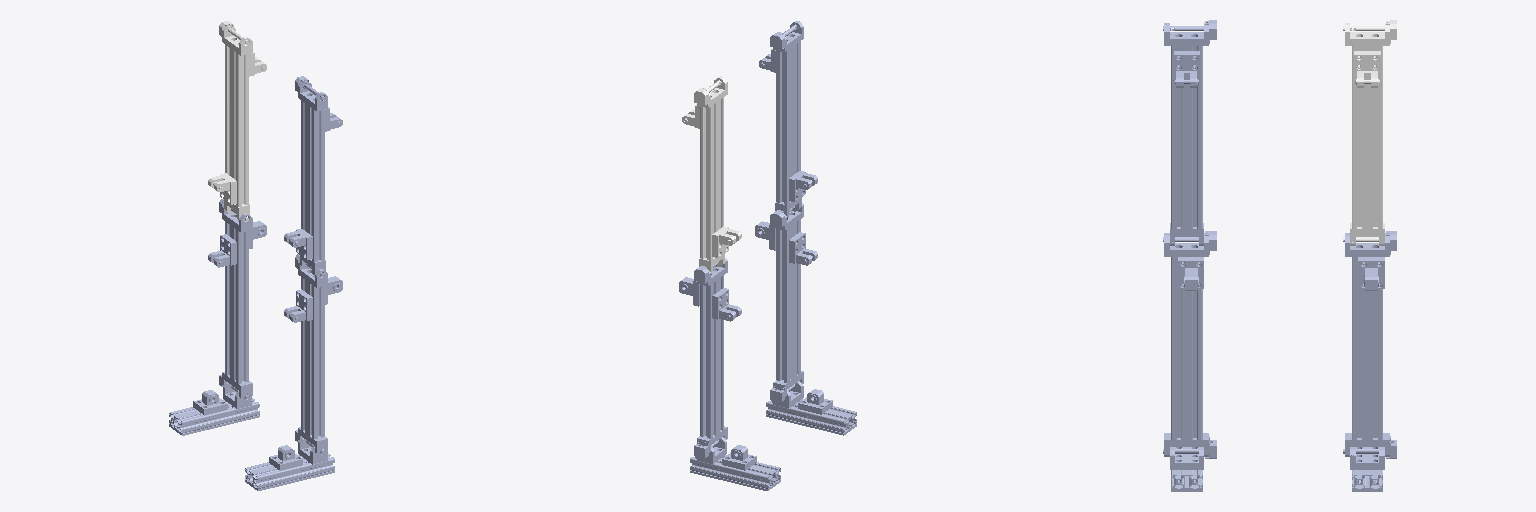
URDF robot description (leg_chuan_final):
<?xml version="1.0" encoding="utf-8"?>
<!-- This URDF was automatically created by SolidWorks to URDF Exporter! Originally created by [author] ([email redacted]) 
     Commit Version: 1.5.1-0-g916b5db  Build Version: 1.5.7152.31018
     For more information, please see http://wiki.ros.org/sw_urdf_exporter -->
<robot
  name="leg_chuan_final">
  <link
    name="base_link">
    <inertial>
      <origin
        xyz="-0.0014321 0.00041851 0.040306"
        rpy="0 0 0" />
      <mass
        value="2.4018" />
      <inertia
        ixx="0.009591"
        ixy="1.9337E-07"
        ixz="-1.2072E-07"
        iyy="0.0070769"
        iyz="-2.7325E-07"
        izz="0.015485" />
    </inertial>
    <visual>
      <origin
        xyz="0 0 0"
        rpy="0 0 0" />
      <geometry>
        <mesh
          filename="package://leg_chuan_final/meshes/base_link.STL" />
      </geometry>
      <material
        name="">
        <color
          rgba="0.79216 0.81961 0.93333 1" />
      </material>
    </visual>
    <collision>
      <origin
        xyz="0 0 0"
        rpy="0 0 0" />
      <geometry>
        <mesh
          filename="package://leg_chuan_final/meshes/base_link.STL" />
      </geometry>
    </collision>
  </link>
  <link
    name="left_link1">
    <inertial>
      <origin
        xyz="0.21548 -0.0030993 0.0013257"
        rpy="0 0 0" />
      <mass
        value="0.43137" />
      <inertia
        ixx="0.00020436"
        ixy="-9.8E-06"
        ixz="1.5473E-07"
        iyy="0.0027266"
        iyz="5.4625E-08"
        izz="0.0026126" />
    </inertial>
    <visual>
      <origin
        xyz="0 0 0"
        rpy="0 0 0" />
      <geometry>
        <mesh
          filename="package://leg_chuan_final/meshes/left_link1.STL" />
      </geometry>
      <material
        name="">
        <color
          rgba="0.79216 0.81961 0.93333 1" />
      </material>
    </visual>
    <collision>
      <origin
        xyz="0 0 0"
        rpy="0 0 0" />
      <geometry>
        <mesh
          filename="package://leg_chuan_final/meshes/left_link1.STL" />
      </geometry>
    </collision>
  </link>
  <joint
    name="left_joint1"
    type="revolute">
    <origin
      xyz="-0.0436 -0.17124 -0.06"
      rpy="1.5708 1.5708 0" />
    <parent
      link="base_link" />
    <child
      link="left_link1" />
    <axis
      xyz="0 0 1" />
    <limit
      lower="0"
      upper="1.571"
      effort="100"
      velocity="5" />
    <dynamics
      damping="0.1"
      friction="0" />
  </joint>
  <link
    name="left_link2">
    <inertial>
      <origin
        xyz="0.17796189333379 0.00157862107610368 -0.0479042300307976"
        rpy="0 0 0" />
      <mass
        value="0.455413997264765" />
      <inertia
        ixx="0.000232825591707952"
        ixy="4.91487669826109E-06"
        ixz="4.24541899488186E-18"
        iyy="0.00274374190170977"
        iyz="1.41521080153611E-17"
        izz="0.0026249658638958" />
    </inertial>
    <visual>
      <origin
        xyz="0 0 0"
        rpy="0 0 0" />
      <geometry>
        <mesh
          filename="package://leg_chuan_final/meshes/left_link2.STL" />
      </geometry>
      <material
        name="">
        <color
          rgba="0.792156862745098 0.819607843137255 0.933333333333333 1" />
      </material>
    </visual>
    <collision>
      <origin
        xyz="0 0 0"
        rpy="0 0 0" />
      <geometry>
        <mesh
          filename="package://leg_chuan_final/meshes/left_link2.STL" />
      </geometry>
    </collision>
  </link>
  <joint
    name="left_joint2"
    type="revolute">
    <origin
      xyz="0.438 -0.0031004 0.047592"
      rpy="0 0 0" />
    <parent
      link="left_link1" />
    <child
      link="left_link2" />
    <axis
      xyz="0 0 1" />
    <limit
      lower="0"
      upper="1.571"
      effort="150"
      velocity="5" />
    <dynamics
      damping="0.1"
      friction="0" />
  </joint>
  <link
    name="left_link3">
    <inertial>
      <origin
        xyz="0.036675 -0.049331 -0.045802"
        rpy="0 0 0" />
      <mass
        value="0.29119" />
      <inertia
        ixx="0.00068435"
        ixy="-6.0358E-08"
        ixz="-1.3663E-07"
        iyy="0.00011606"
        iyz="9.6683E-08"
        izz="0.00061049" />
    </inertial>
    <visual>
      <origin
        xyz="0 0 0"
        rpy="0 0 0" />
      <geometry>
        <mesh
          filename="package://leg_chuan_final/meshes/left_link3.STL" />
      </geometry>
      <material
        name="">
        <color
          rgba="0.79216 0.81961 0.93333 1" />
      </material>
    </visual>
    <collision>
      <origin
        xyz="0 0 0"
        rpy="0 0 0" />
      <geometry>
        <mesh
          filename="package://leg_chuan_final/meshes/left_link3.STL" />
      </geometry>
    </collision>
  </link>
  <joint
    name="left_joint3"
    type="revolute">
    <origin
      xyz="0.44 0 0"
      rpy="0 0 0" />
    <parent
      link="left_link2" />
    <child
      link="left_link3" />
    <axis
      xyz="0 0 1" />
    <limit
      lower="0"
      upper="1.571"
      effort="200"
      velocity="5" />
    <dynamics
      damping="0.1"
      friction="0" />
  </joint>
  <link
    name="right_link1">
    <inertial>
      <origin
        xyz="0 0 0"
        rpy="0 0 0" />
      <mass
        value="0" />
      <inertia
        ixx="0"
        ixy="0"
        ixz="0"
        iyy="0"
        iyz="0"
        izz="0" />
    </inertial>
    <visual>
      <origin
        xyz="0 0 0"
        rpy="0 0 0" />
      <geometry>
        <mesh
          filename="package://leg_chuan_final/meshes/right_link1.STL" />
      </geometry>
      <material
        name="">
        <color
          rgba="1 1 1 1" />
      </material>
    </visual>
    <collision>
      <origin
        xyz="0 0 0"
        rpy="0 0 0" />
      <geometry>
        <mesh
          filename="package://leg_chuan_final/meshes/right_link1.STL" />
      </geometry>
    </collision>
  </link>
  <joint
    name="right_joint1"
    type="revolute">
    <origin
      xyz="-0.0436 0.16876 -0.06"
      rpy="1.5708 1.5708 0" />
    <parent
      link="base_link" />
    <child
      link="right_link1" />
    <axis
      xyz="0 0 1" />
    <limit
      lower="0"
      upper="1.571"
      effort="100"
      velocity="5" />
    <dynamics
      damping="0.1"
      friction="0" />
  </joint>
  <link
    name="right_link2">
    <inertial>
      <origin
        xyz="0.17796 0.0015786 -0.047904"
        rpy="0 0 0" />
      <mass
        value="0.45541" />
      <inertia
        ixx="0.00023283"
        ixy="4.9149E-06"
        ixz="4.1449E-18"
        iyy="0.0027437"
        iyz="1.4101E-17"
        izz="0.002625" />
    </inertial>
    <visual>
      <origin
        xyz="0 0 0"
        rpy="0 0 0" />
      <geometry>
        <mesh
          filename="package://leg_chuan_final/meshes/right_link2.STL" />
      </geometry>
      <material
        name="">
        <color
          rgba="0.79216 0.81961 0.93333 1" />
      </material>
    </visual>
    <collision>
      <origin
        xyz="0 0 0"
        rpy="0 0 0" />
      <geometry>
        <mesh
          filename="package://leg_chuan_final/meshes/right_link2.STL" />
      </geometry>
    </collision>
  </link>
  <joint
    name="right_joint2"
    type="revolute">
    <origin
      xyz="0.438 -0.0031004 0.047592"
      rpy="0 0 0" />
    <parent
      link="right_link1" />
    <child
      link="right_link2" />
    <axis
      xyz="0 0 1" />
    <limit
      lower="0"
      upper="1.571"
      effort="150"
      velocity="5" />
    <dynamics
      damping="0.1"
      friction="0" />
  </joint>
  <link
    name="right_link3">
    <inertial>
      <origin
        xyz="0.036675 -0.049331 -0.045802"
        rpy="0 0 0" />
      <mass
        value="0.29119" />
      <inertia
        ixx="0.00068435"
        ixy="-6.0358E-08"
        ixz="-1.3663E-07"
        iyy="0.00011606"
        iyz="9.6683E-08"
        izz="0.00061049" />
    </inertial>
    <visual>
      <origin
        xyz="0 0 0"
        rpy="0 0 0" />
      <geometry>
        <mesh
          filename="package://leg_chuan_final/meshes/right_link3.STL" />
      </geometry>
      <material
        name="">
        <color
          rgba="0.79216 0.81961 0.93333 1" />
      </material>
    </visual>
    <collision>
      <origin
        xyz="0 0 0"
        rpy="0 0 0" />
      <geometry>
        <mesh
          filename="package://leg_chuan_final/meshes/right_link3.STL" />
      </geometry>
    </collision>
  </link>
  <joint
    name="right_joint3"
    type="revolute">
    <origin
      xyz="0.44 0 0"
      rpy="0 0 0" />
    <parent
      link="right_link2" />
    <child
      link="right_link3" />
    <axis
      xyz="0 0 1" />
    <limit
      lower="0"
      upper="1.571"
      effort="200"
      velocity="5" />
    <dynamics
      damping="0.1"
      friction="0" />
  </joint>
</robot>

--- Render facts (derived) ---
The picture shows the robot from 3 angles, left to right: view 1: azimuth 30°, elevation 25°; view 2: azimuth 150°, elevation 25°; view 3: azimuth 270°, elevation 25°; orthographic projection.
Model leg_chuan_final with 7 links and 6 joints (6 revolute), rooted at base_link, posed every joint at zero.
Links seen in each view (by area): view 1: right_link2, right_link1, left_link1, left_link2, left_link3, right_link3; view 2: left_link2, right_link2, left_link1, right_link1, left_link3, right_link3; view 3: left_link2, left_link1, right_link2, right_link1, right_link3, left_link3.
Link boxes in pixels (<box>): right_link2: <box>208,199,266,400</box>; right_link1: <box>208,21,266,221</box>; left_link1: <box>284,76,342,276</box>; left_link2: <box>284,254,342,456</box>; left_link3: <box>245,438,334,490</box>; right_link3: <box>169,382,259,435</box>; left_link2: <box>755,203,817,403</box>; right_link2: <box>679,258,741,459</box>; left_link1: <box>759,21,817,217</box>; right_link1: <box>682,76,741,272</box>; left_link3: <box>766,381,856,435</box>; right_link3: <box>690,437,780,490</box>; left_link2: <box>1163,231,1216,458</box>; left_link1: <box>1163,20,1216,245</box>; right_link2: <box>1343,231,1396,458</box>; right_link1: <box>1343,20,1396,245</box>; right_link3: <box>1350,447,1384,491</box>; left_link3: <box>1170,447,1203,491</box>.
Size in the robot's own frame: 0.235 by 0.4424 by 0.956 metres.
Meshes: 7 distinct files referenced, 6 mesh visuals loaded (6 binary STL); not drawn: 1 (reference not matched to a file when rendering).
